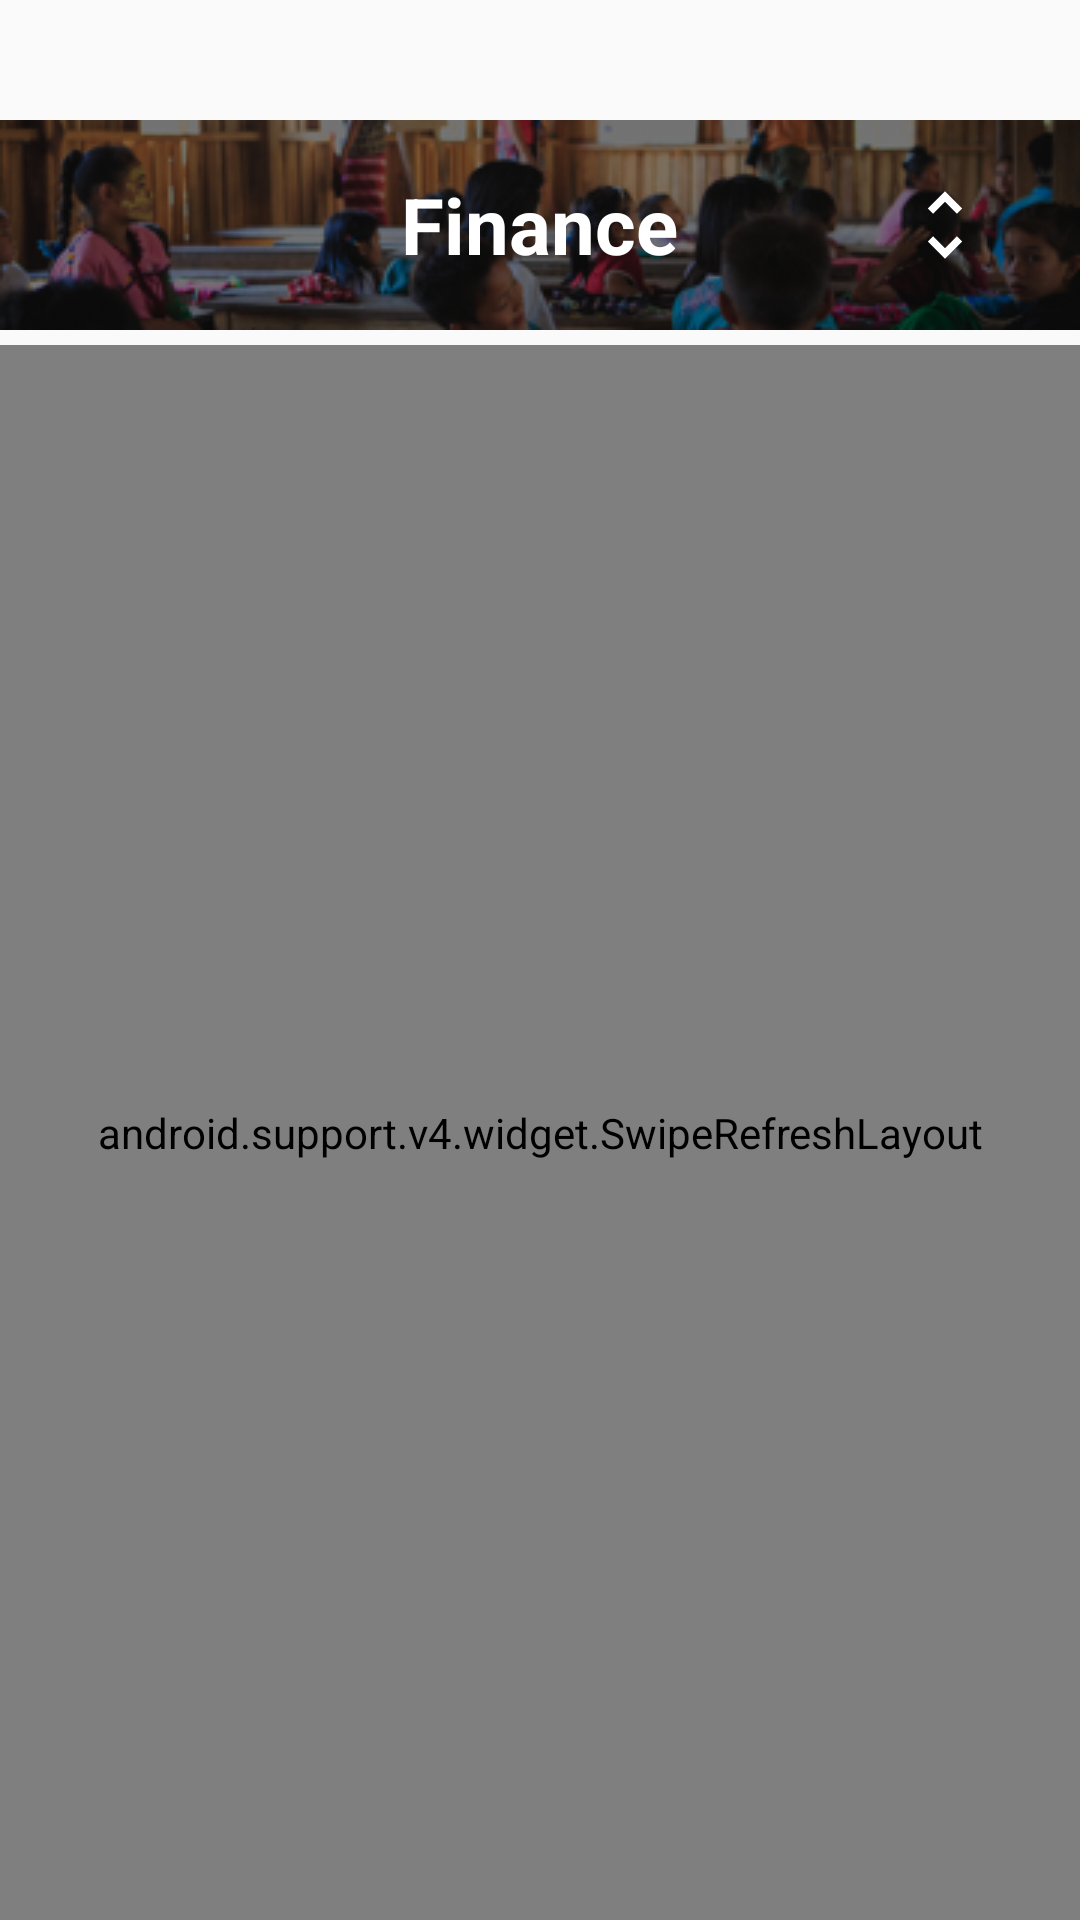

Where to tap for icons on this 1080px×1920px app screen, as [x,y]:
expand: [945,225]
